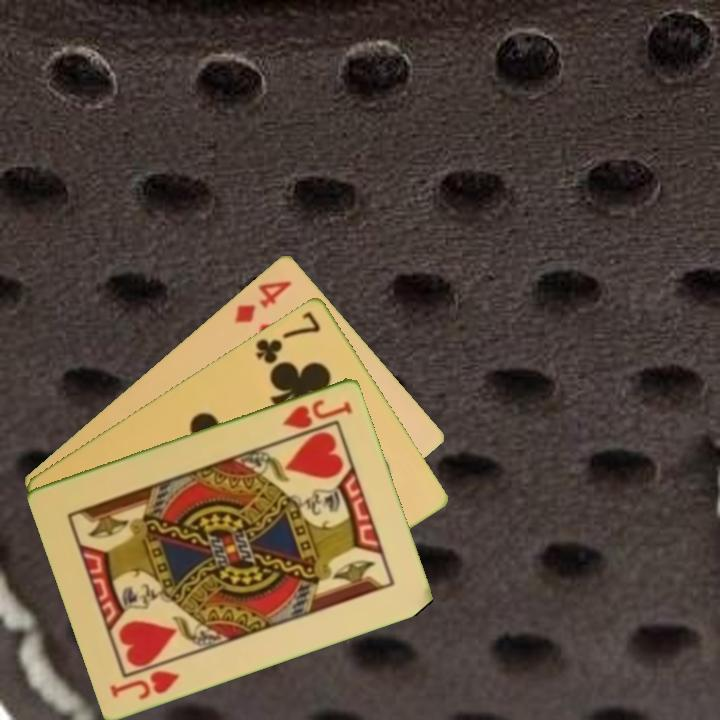4d: (230, 276, 295, 326)
7c: (252, 307, 324, 366)
Jh: (279, 395, 355, 431), (107, 666, 183, 702)
